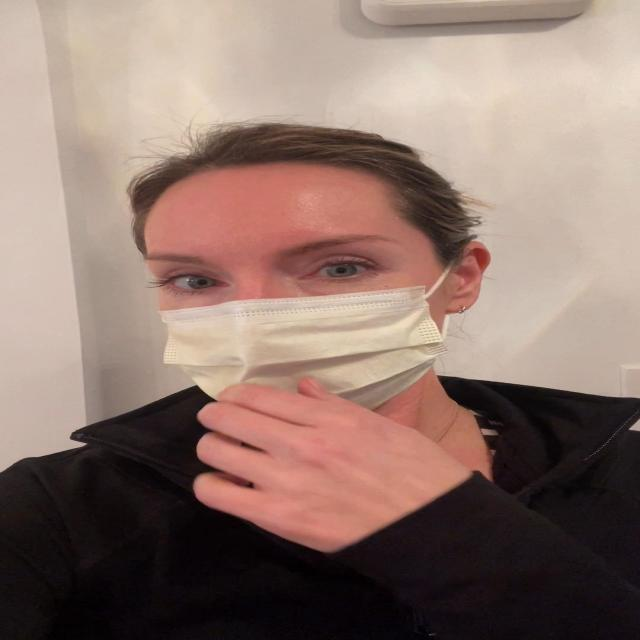no hat: (111, 142, 508, 432)
